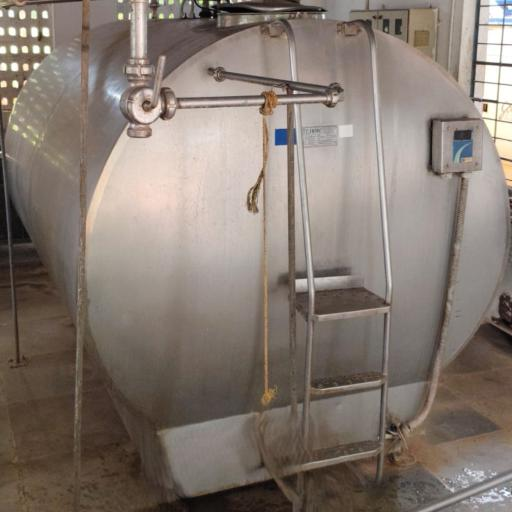silo: (0, 2, 508, 493)
